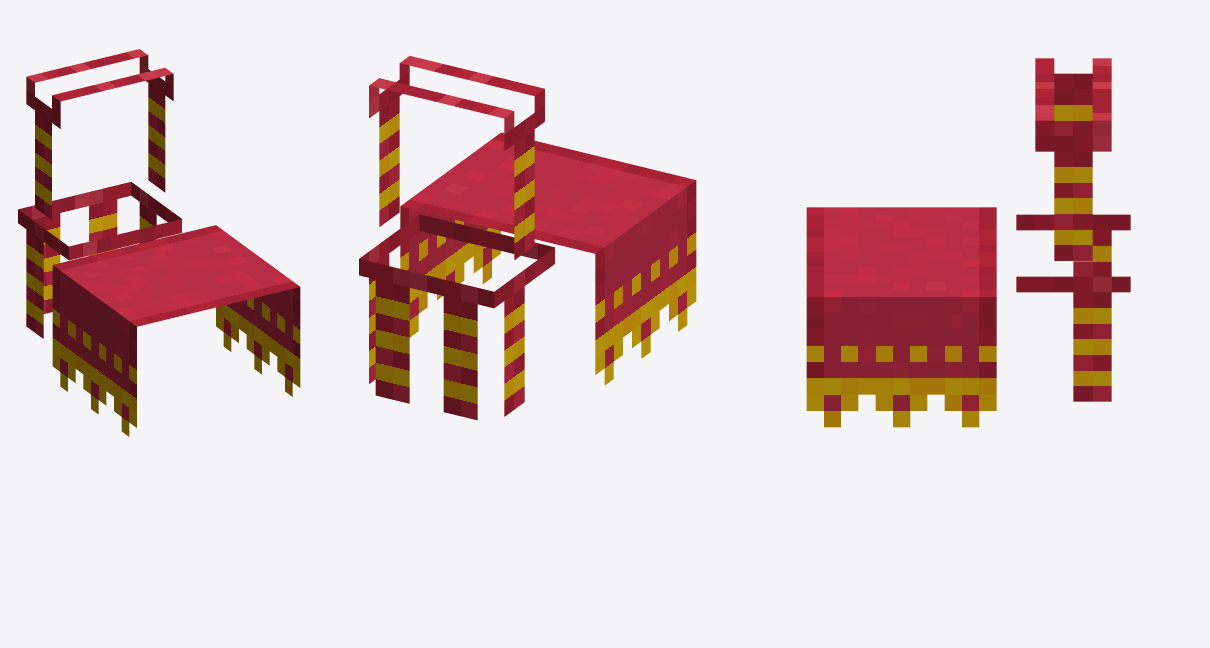
The model's file is llama_decor.gltf.
The picture shows the model from 3 angles, left to right: view 1: azimuth 30°, elevation 25°; view 2: azimuth 150°, elevation 25°; view 3: azimuth 270°, elevation 25°; orthographic projection. The views are drawn at different scales.
Parts seen in each view (by area): view 1: body, head; view 2: body, head; view 3: body, head.
Part boxes in pixels (x1,y1,x2,y2): body: (52,225,300,436); head: (18,49,181,338); body: (400,132,696,385); head: (359,56,554,420); body: (806,207,996,427); head: (1016,58,1130,401).
Bounding box in the file's own units: 1.12 × 2.31 × 1.69.
1 material, 1 textured.
